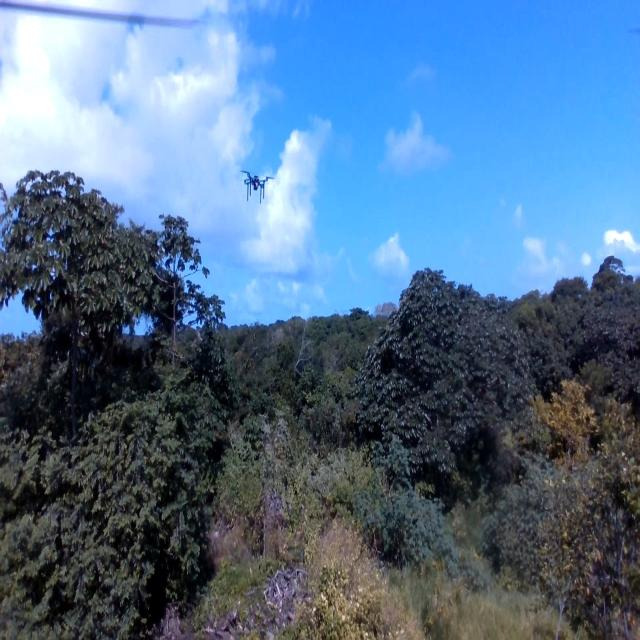-uav-: (232, 156, 278, 212)
